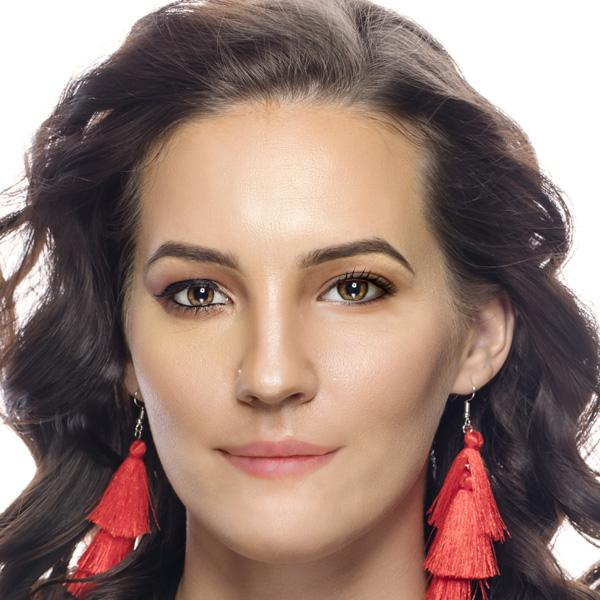Eyes: (302, 264, 405, 321), (148, 267, 245, 323)
